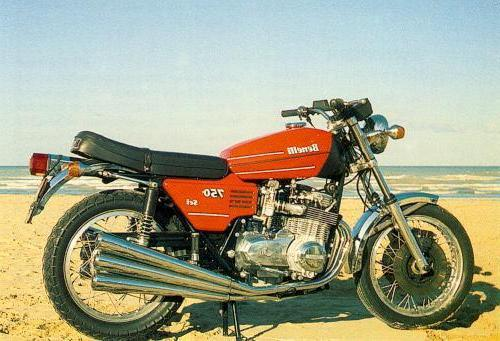Motorcycle: (8, 77, 486, 337)
